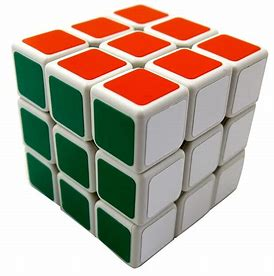cube: (6, 4, 268, 269)
